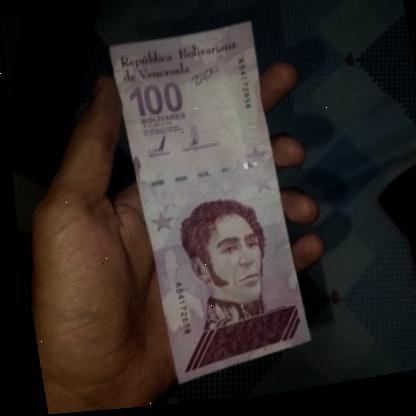vef_front: (109, 23, 312, 393)
